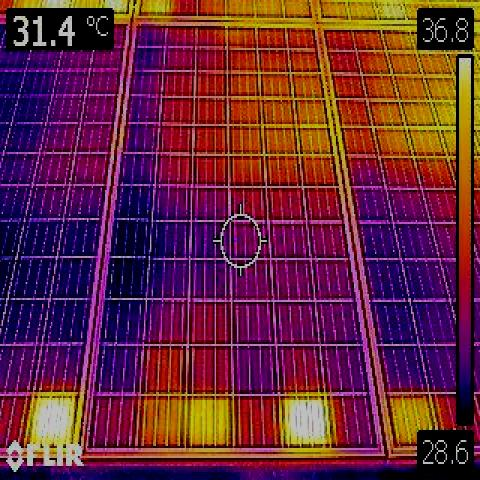fault: (283, 400, 328, 448), (32, 398, 74, 444), (191, 400, 225, 445)
